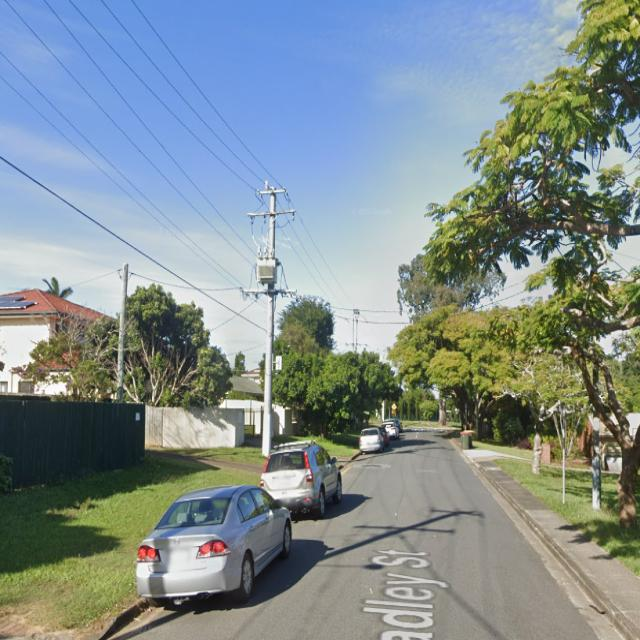HV-switch: (352, 308, 360, 317)
HV-transmission: (247, 180, 295, 223)
concrete-pole: (262, 187, 277, 458)
crossarm: (248, 208, 296, 223), (258, 179, 287, 196), (240, 288, 296, 295)
timber-pole: (116, 264, 129, 403)
transformer: (253, 250, 277, 282)
